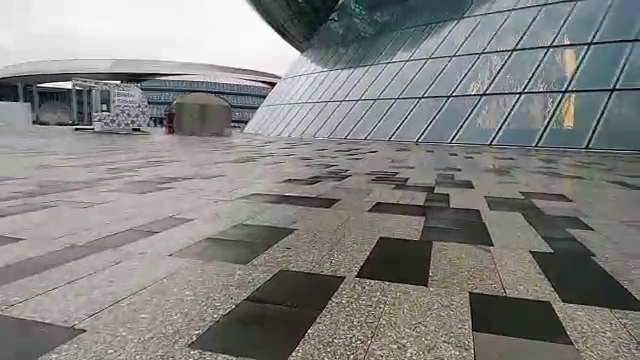kassa: (69, 72, 155, 137)
